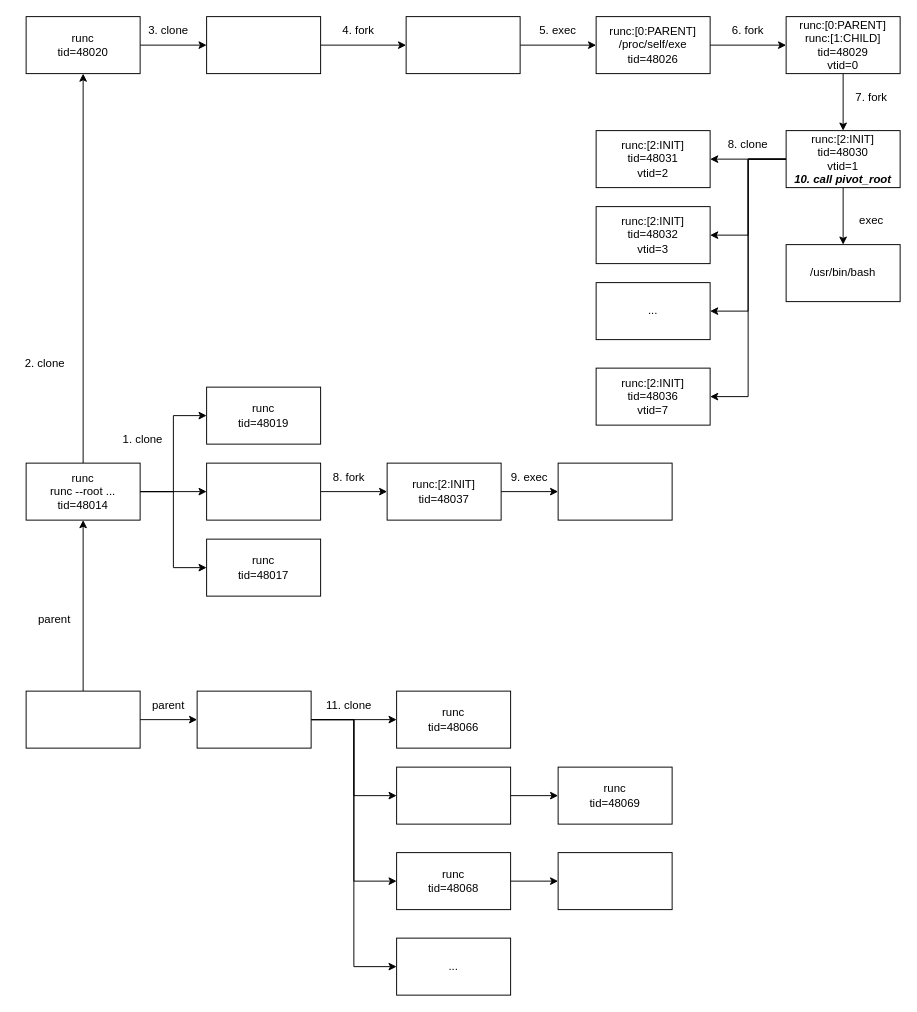
Some shapes in this 917 by 1012 pixel diagram are drawn without their labels. Here are the shapes that lost their labels. From the top down, the centre of each, then its label:
At pixel 263 45: "runc tid= 48024".
At pixel 462 45: "runc init tid= 48026".
At pixel 263 491: "runc tid= 48018".
At pixel 614 491: "runc tid=48037 dockerd libnetwork-setkey".
At pixel 82 719: "tid=48009".
At pixel 253 719: "runc --root ... --log ... start tid=48061".
At pixel 453 795: "runc tid=48067".
At pixel 614 881: "runc tid=48073".
